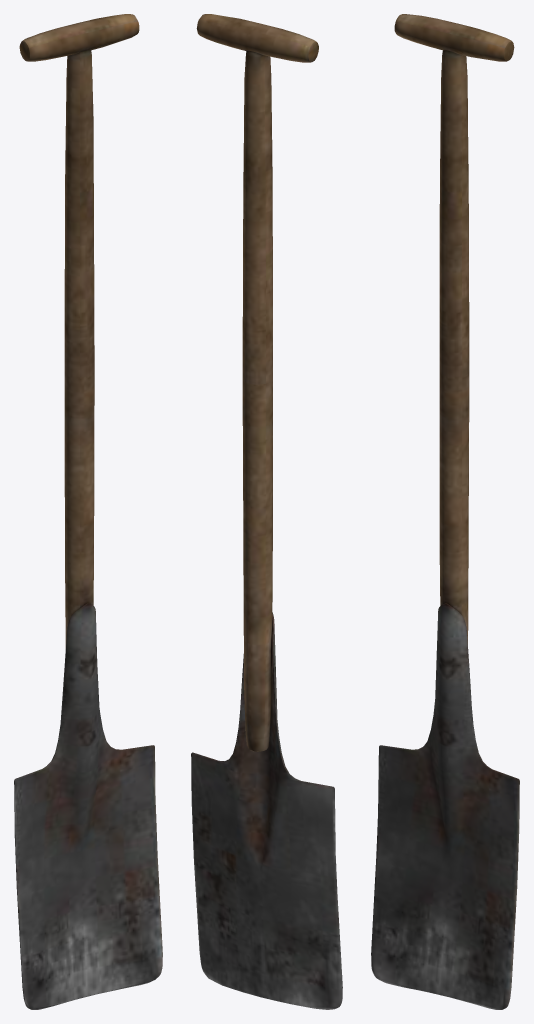
Rendered from spade-rusted.lite.2cbdd142.glb.
3 renders of one model, left to right at view 1: azimuth 30°, elevation 25°; view 2: azimuth 150°, elevation 25°; view 3: azimuth 330°, elevation 25°, orthographic. The views are drawn at different scales.
Visible parts, largest first — view 1: model; view 2: model; view 3: model.
Boxes of the visible parts, x1,y1,x2,y2 form: model: [14, 14, 162, 1009]; model: [191, 14, 342, 1009]; model: [371, 14, 519, 1009].
Size of the model in its own units: 0.1681 by 1.1 by 0.0453.
Materials: 1 (1 with a texture image).
